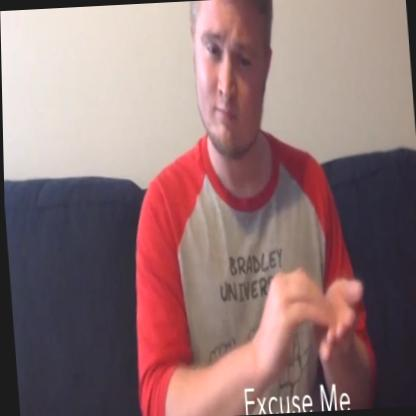ExcuseMe: (250, 247, 372, 384)
